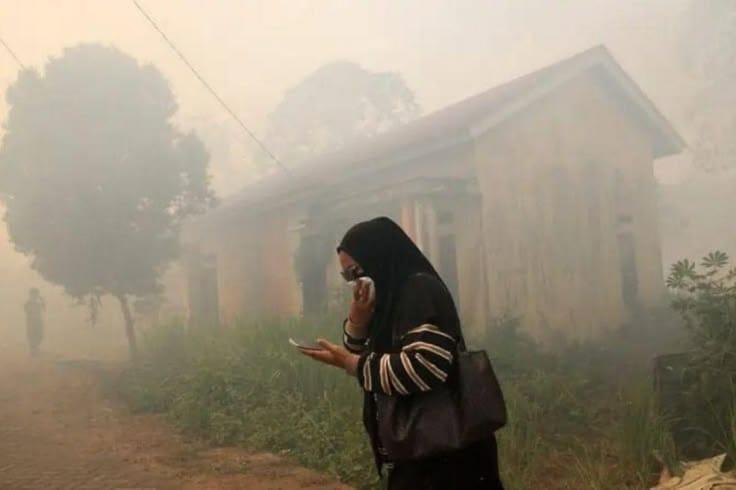Deteksi-Objek-Citra-Berasap: (0, 0, 736, 490)
Gedung: (171, 42, 687, 359)
Manusia: (295, 216, 504, 489), (23, 287, 46, 357)
Vegetasi: (0, 41, 219, 364), (125, 310, 378, 489), (488, 315, 668, 490), (266, 56, 428, 181), (649, 249, 736, 470)
